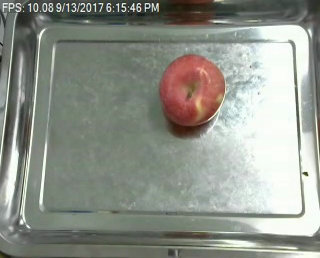Apple: (157, 51, 226, 128)
